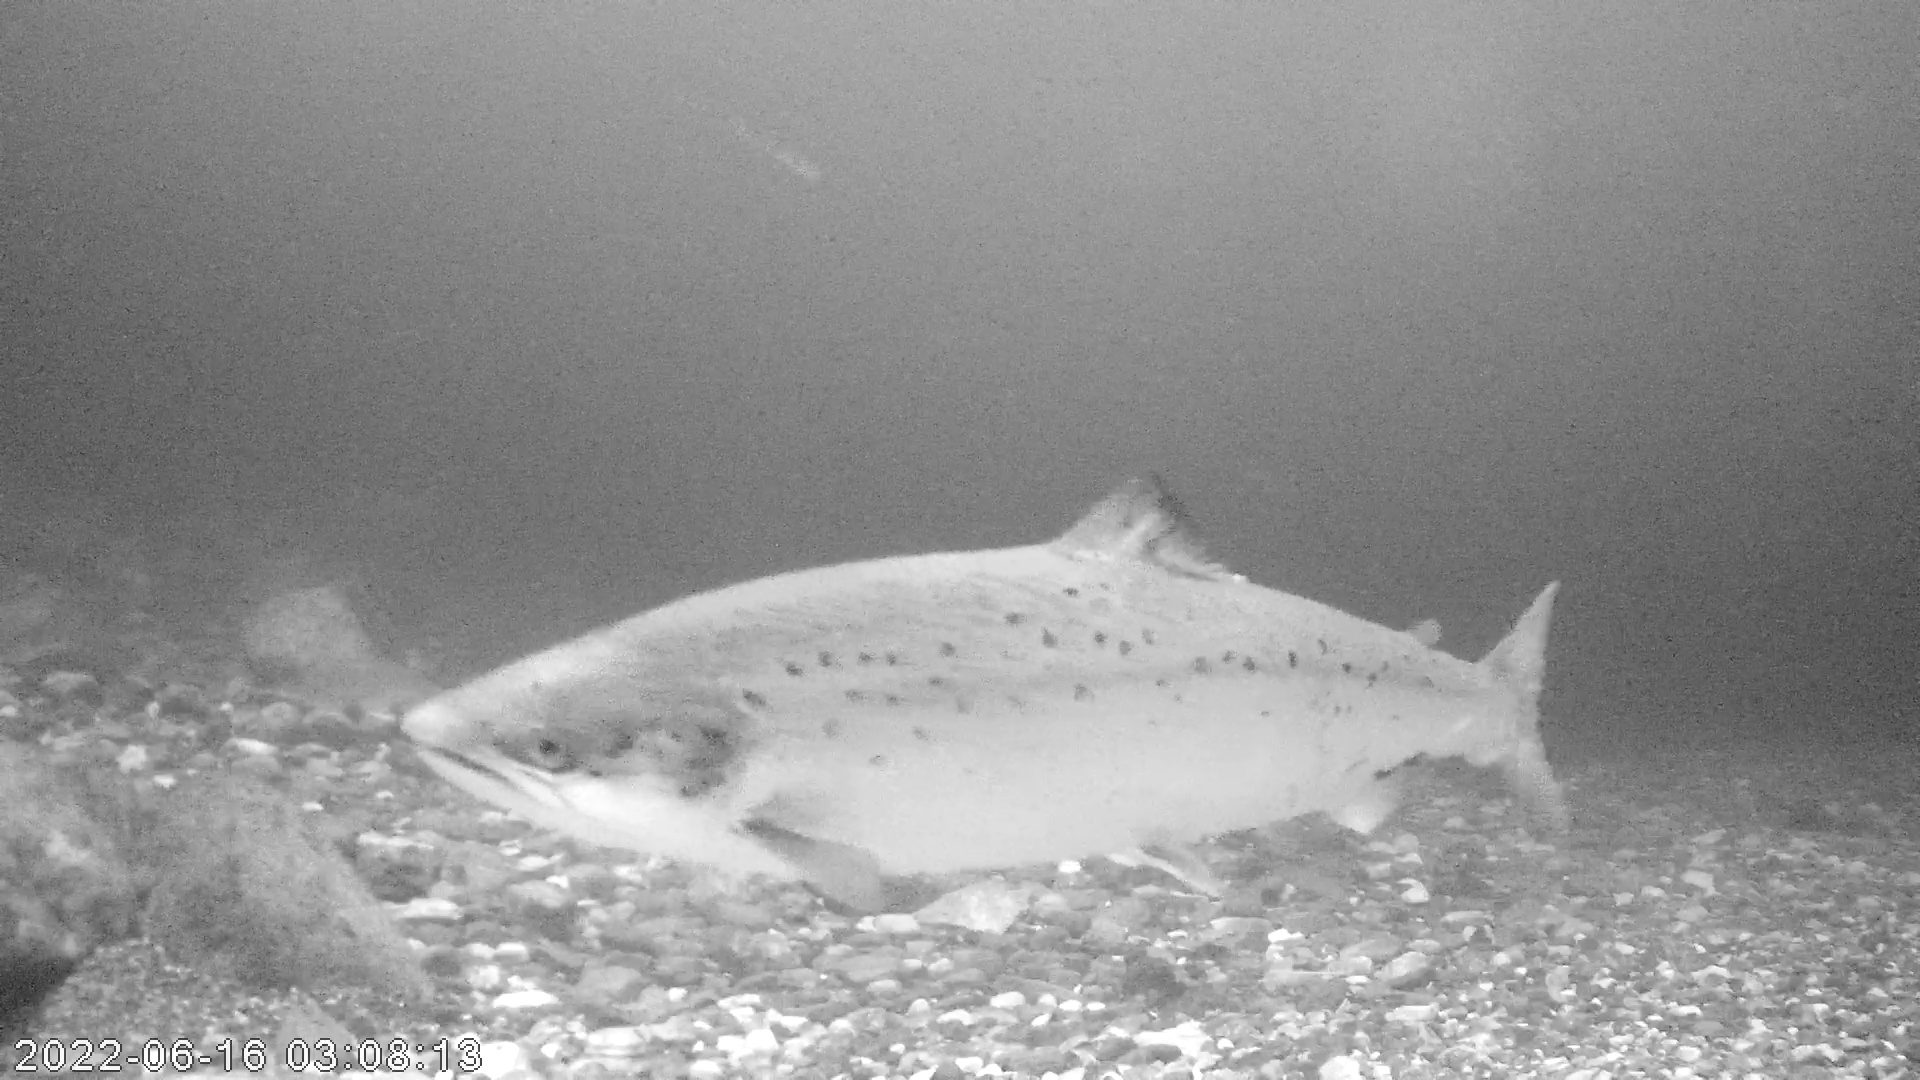salmon: (398, 469, 1569, 913)
